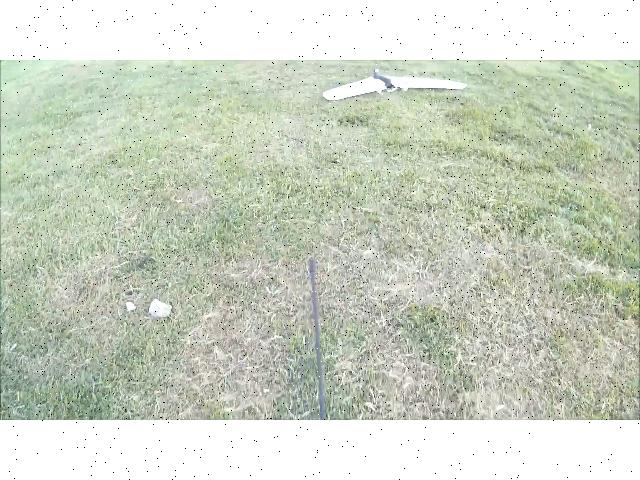Anti-Drone: (313, 64, 473, 112)
